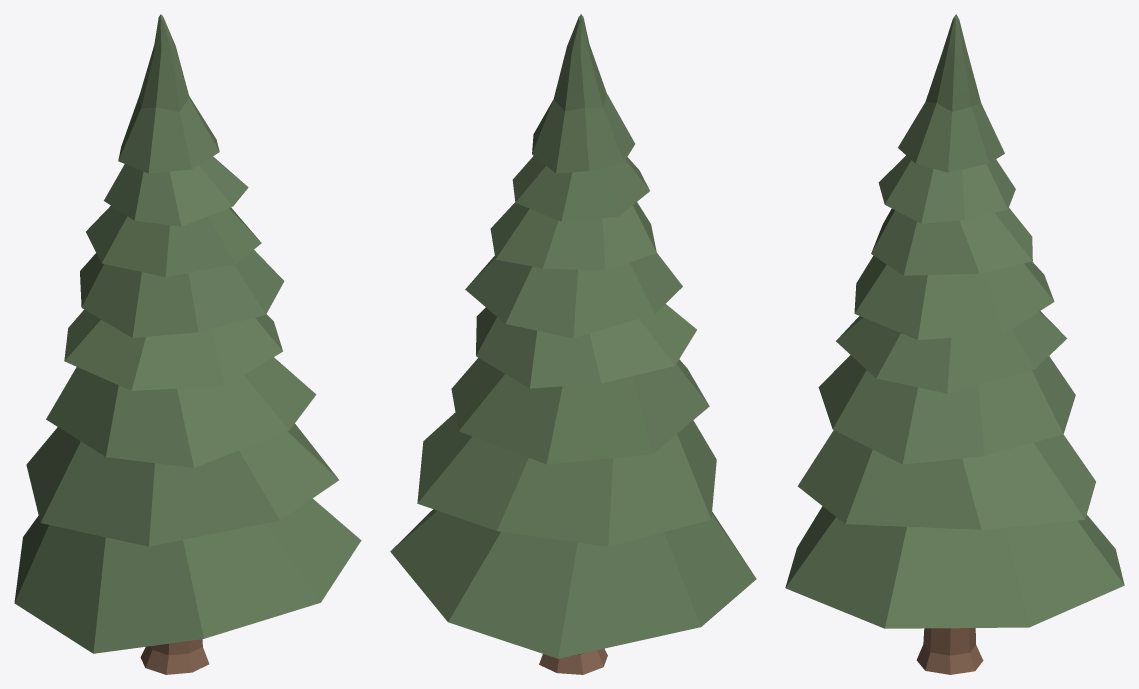
File: Pine_Trees_Pack_Pine_08.fbx
3 renders of one model, left to right at view 1: azimuth 30°, elevation 25°; view 2: azimuth 150°, elevation 25°; view 3: azimuth 270°, elevation 25°, orthographic.
Parts seen in each view (by area): view 1: Pine_Trees_Pack_Pine_08; view 2: Pine_Trees_Pack_Pine_08; view 3: Pine_Trees_Pack_Pine_08.
Boxes of the visible parts, <box> form: Pine_Trees_Pack_Pine_08: <box>14,14,361,674</box>; Pine_Trees_Pack_Pine_08: <box>390,14,756,674</box>; Pine_Trees_Pack_Pine_08: <box>785,14,1124,674</box>.
Size of the model in its own units: 318 by 661 by 317.
